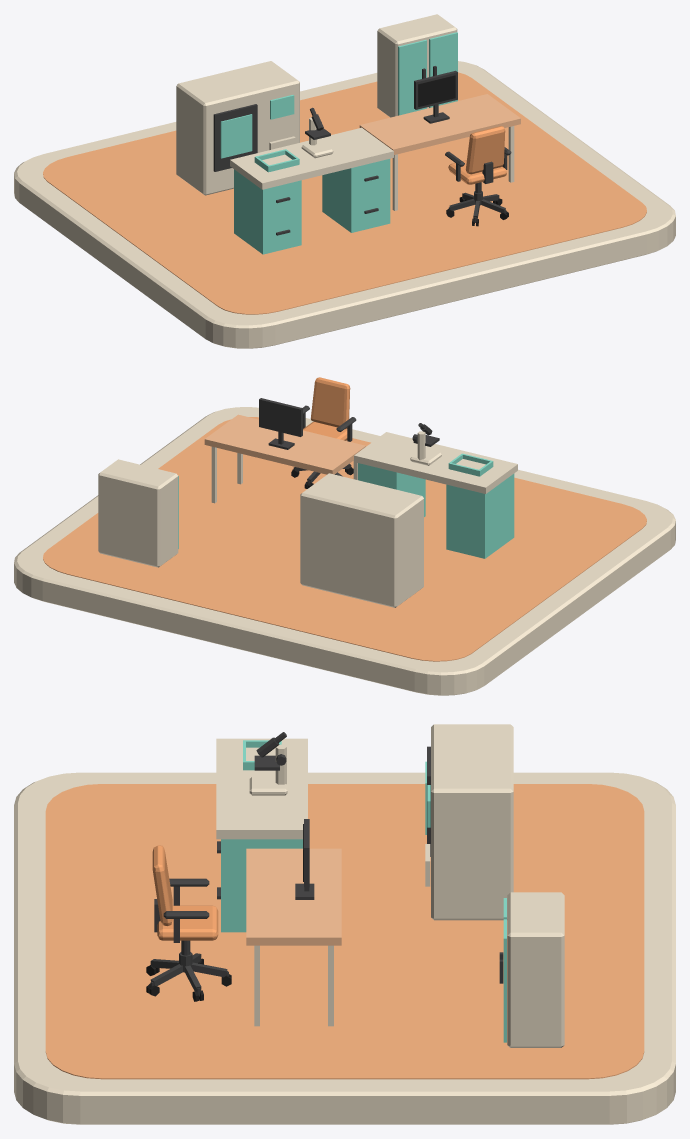
Rendered from room.fbx.
The picture shows the model from 3 angles, top to bottom: view 1: azimuth 30°, elevation 25°; view 2: azimuth 150°, elevation 25°; view 3: azimuth 270°, elevation 25°; orthographic projection. The views are drawn at different scales.
Parts seen in each view (by area): view 1: COM-02 Floor Surface, COM-01 Rounded Base Direct, Analysis cabinet, Top, Storage module, Worktop, Storage module.001, COM-04_Chair_blender_direct, Equipment case, Door, Frame, Sample chamber (+3 smaller); view 2: COM-02 Floor Surface, COM-01 Rounded Base Direct, Analysis cabinet, Equipment case, Top, Storage module, Worktop, COM-04_Chair_blender_direct, Frame, Storage module.001; view 3: COM-02 Floor Surface, COM-01 Rounded Base Direct, Analysis cabinet, Top, Equipment case, Worktop, COM-04_Chair_blender_direct, Storage module.001, Frame, Foot.
Boxes of the visible parts, left/top/right/bottom form: COM-02 Floor Surface: left=43, top=72, right=646, bottom=314; COM-01 Rounded Base Direct: left=14, top=61, right=675, bottom=348; Analysis cabinet: left=176, top=61, right=299, bottom=195; Top: left=359, top=94, right=520, bottom=210; Storage module: left=234, top=169, right=301, bottom=254; Worktop: left=230, top=127, right=393, bottom=189; Storage module.001: left=322, top=159, right=390, bottom=232; COM-04_Chair_blender_direct: left=445, top=126, right=511, bottom=226; Equipment case: left=377, top=14, right=457, bottom=117; Door: left=398, top=39, right=426, bottom=115; Frame: left=414, top=70, right=457, bottom=123; Sample chamber: left=213, top=104, right=257, bottom=171; COM-02 Floor Surface: left=43, top=417, right=646, bottom=661; COM-01 Rounded Base Direct: left=14, top=407, right=675, bottom=695; Analysis cabinet: left=300, top=473, right=423, bottom=607; Equipment case: left=98, top=459, right=178, bottom=567; Top: left=204, top=414, right=365, bottom=503; Storage module: left=446, top=473, right=514, bottom=558; Worktop: left=354, top=432, right=517, bottom=493; COM-04_Chair_blender_direct: left=291, top=377, right=356, bottom=488; Frame: left=259, top=398, right=302, bottom=449; Storage module.001: left=358, top=463, right=425, bottom=516; COM-02 Floor Surface: left=45, top=784, right=644, bottom=1079; COM-01 Rounded Base Direct: left=14, top=772, right=675, bottom=1124; Analysis cabinet: left=431, top=724, right=513, bottom=920; Top: left=246, top=848, right=341, bottom=1026; Equipment case: left=507, top=892, right=564, bottom=1047; Worktop: left=216, top=738, right=307, bottom=839; COM-04_Chair_blender_direct: left=146, top=845, right=231, bottom=1001; Storage module.001: left=221, top=839, right=302, bottom=932; Frame: left=295, top=819, right=314, bottom=899; Foot: left=249, top=776, right=287, bottom=795.
Size of the model in its own units: 600 by 169 by 520.
